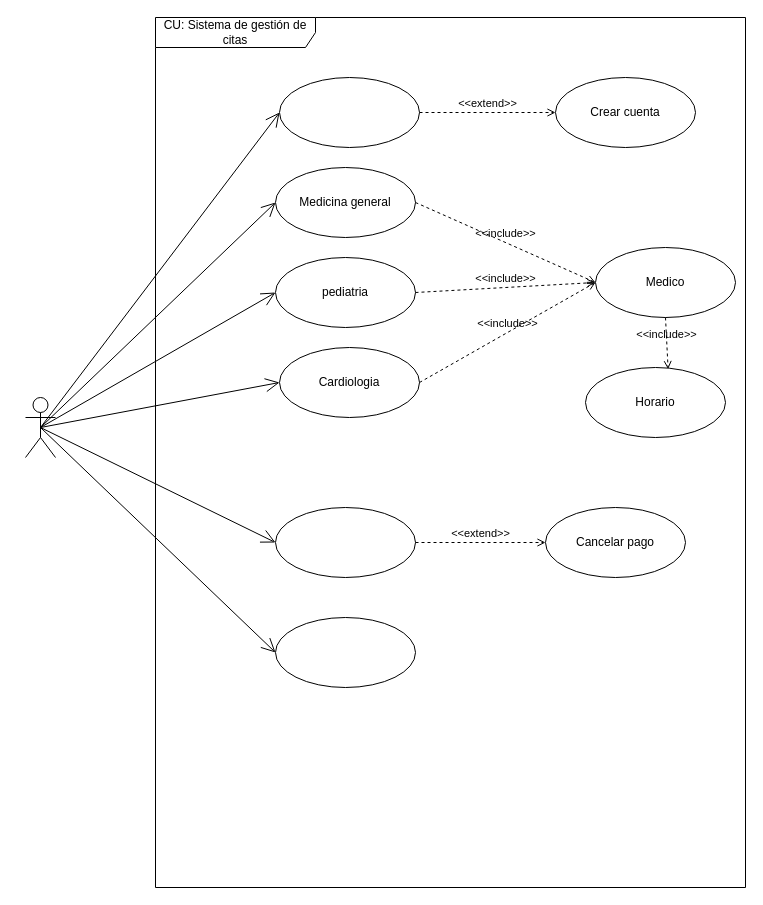
Some shapes in this 763 by 905 pixel diagram are drawn without their labels. Here are the shapes that lost their labels. From the top down, the centre of each, then its label:
At point (349, 112): "Iniciar Sesion".
At point (40, 427): "Paciente".
At point (345, 542): "Pagar".
At point (345, 652): "Cancelar Cita".
